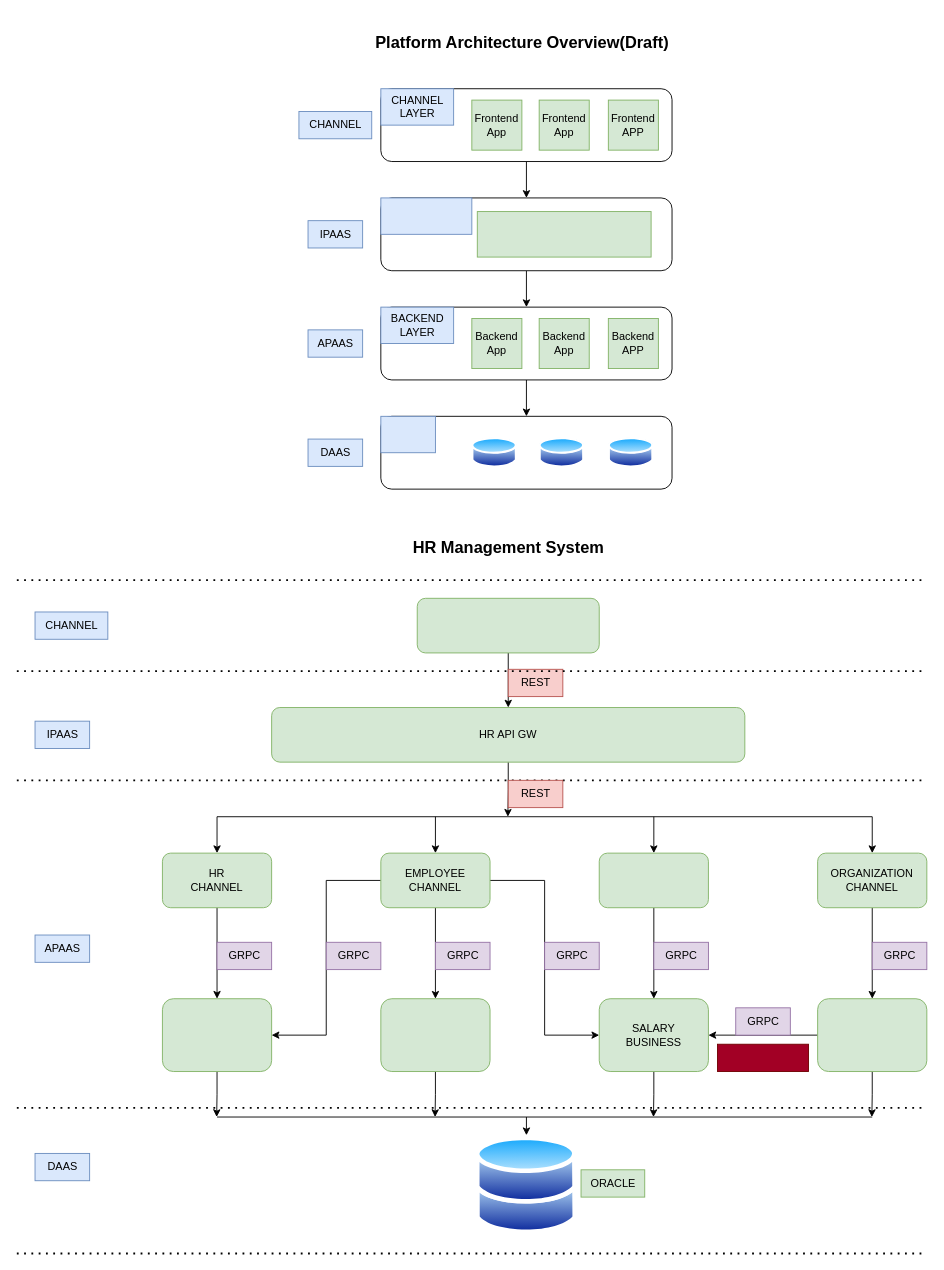
Image size: 944x1270. Some labels were removed from this diagram. The shapes that lost their labels are listed below. From the top down, each one's centre as x and y in pixels, then its label:
At pixel 426 215: "INTEGRATION LAYER".
At pixel 563 234: "API Gateway".
At pixel 407 434: "DATA LAYER".
At pixel 507 625: "HR APP".
At pixel 653 880: "SALARY CHANNEL".
At pixel 217 1035: "HR BUSINESS".
At pixel 435 1035: "EMPLOYEE BUSINESS".
At pixel 872 1035: "ORGANIZATION BUSINESS".
At pixel 763 1057: "İstisna Durum".
